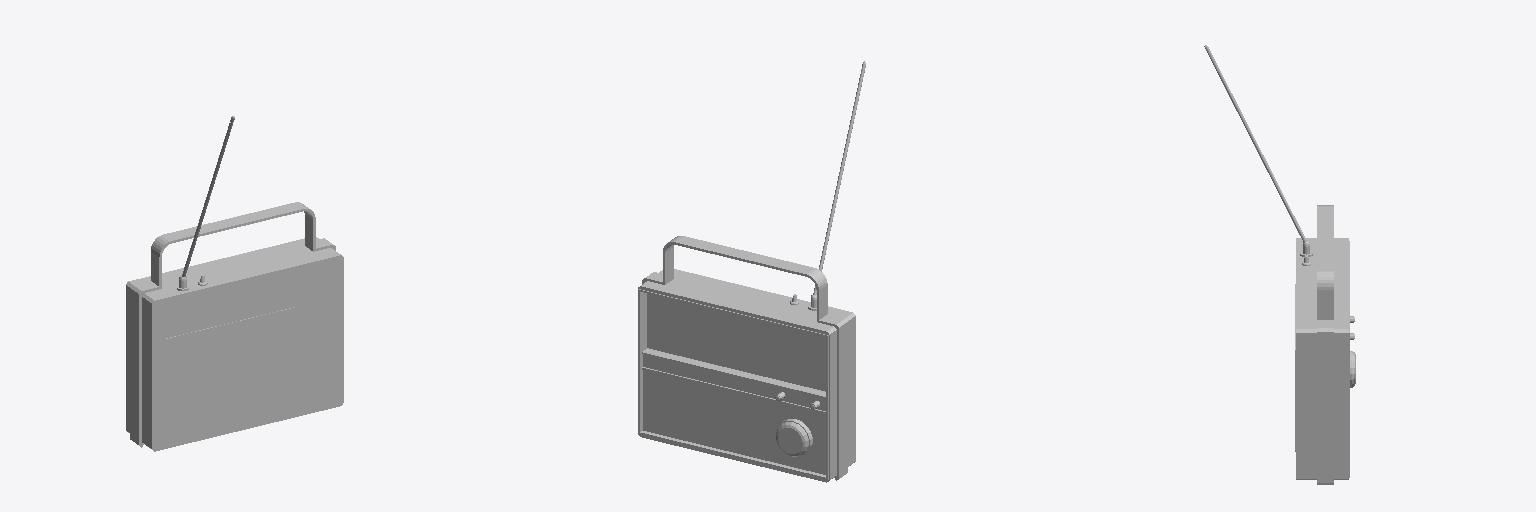
File: RadioEngine.obj
The picture shows the model from 3 angles: view 1: azimuth 30°, elevation 25°; view 2: azimuth 150°, elevation 25°; view 3: azimuth 270°, elevation 25°; orthographic projection.
Size of the model in its own units: 1.66 by 2.93 by 1.11.